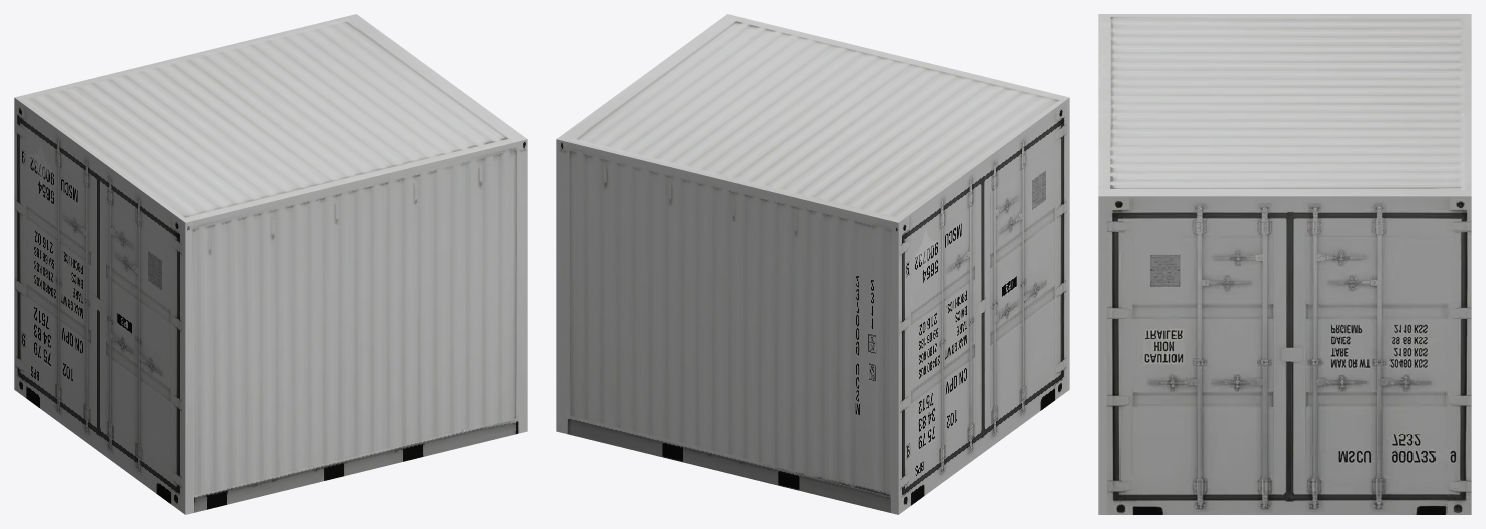
Rendered from 10ft_86_container.glb.
3 views of the same model, side by side, from view 1: azimuth 30°, elevation 25°; view 2: azimuth 150°, elevation 25°; view 3: azimuth 270°, elevation 25° (orthographic). The views are drawn at different scales.
Parts seen in each view (by area): view 1: containerobjcleanermaterialmergergles; view 2: containerobjcleanermaterialmergergles; view 3: containerobjcleanermaterialmergergles.
Part boxes in pixels (x1=…): containerobjcleanermaterialmergergles: x1=14, y1=14, x2=527, y2=514; containerobjcleanermaterialmergergles: x1=556, y1=14, x2=1069, y2=514; containerobjcleanermaterialmergergles: x1=1098, y1=14, x2=1471, y2=514.
Bounding box in the file's own units: 2.99 × 2.44 × 2.59.
1 material, 1 textured.
